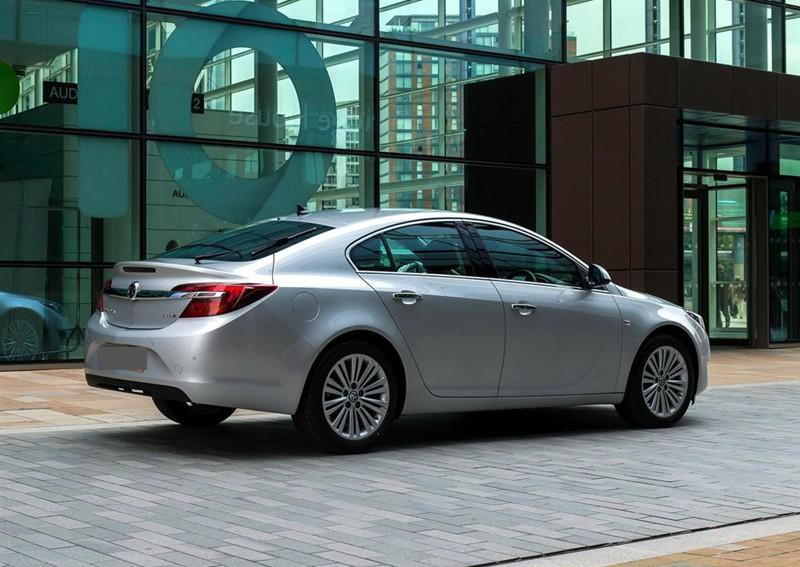Wagon: (82, 209, 712, 456)
